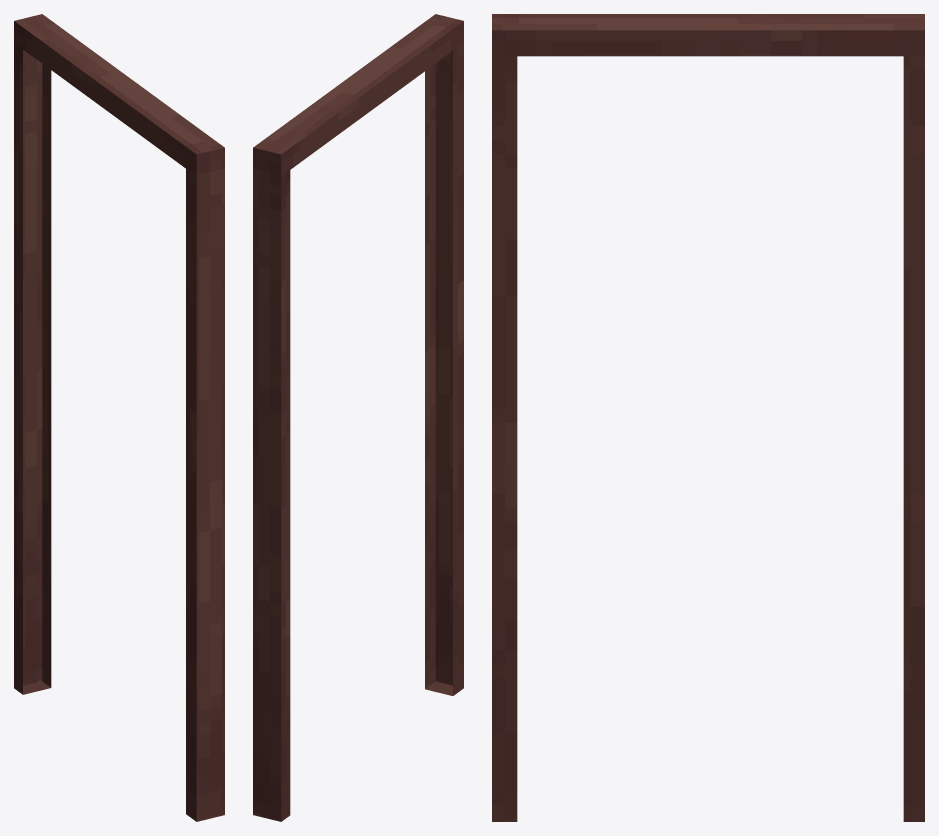
File: DoorFrame.1.fbx
The picture shows the model from 3 angles, left to right: view 1: azimuth 30°, elevation 25°; view 2: azimuth 150°, elevation 25°; view 3: azimuth 270°, elevation 25°; orthographic projection. The views are drawn at different scales.
Parts seen in each view (by area): view 1: Door frame.01; view 2: Door frame.01; view 3: Door frame.01.
Boxes of the visible parts, left/top/right/bottom form: Door frame.01: left=14, top=14, right=224, bottom=821; Door frame.01: left=253, top=14, right=463, bottom=821; Door frame.01: left=492, top=14, right=924, bottom=821.
Size of the model in its own units: 17.86 by 403 by 200.
1 material, 1 textured.
